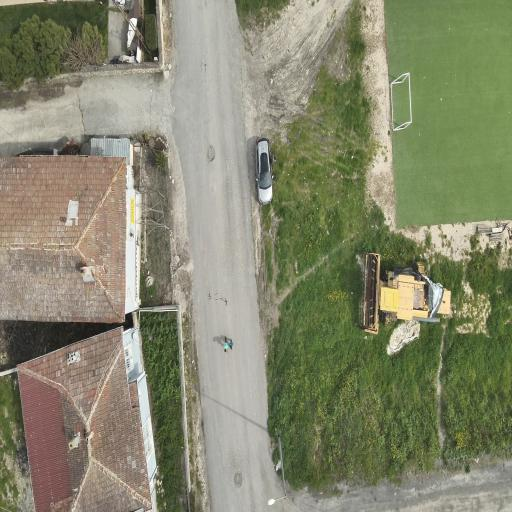car: (256, 138, 272, 204)
harvester: (360, 253, 450, 333)
person: (229, 339, 233, 349), (271, 155, 275, 165), (224, 343, 228, 352)
